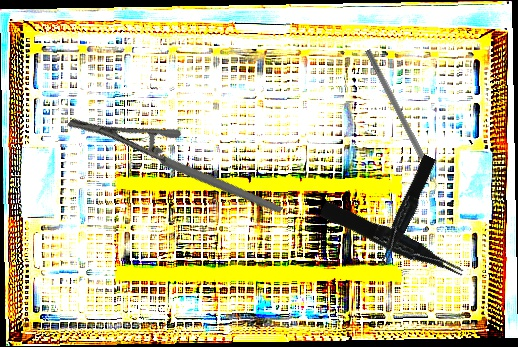Chopper: (356, 48, 444, 199)
Needle Holder: (66, 63, 284, 270)
Tissue Forceps: (318, 194, 467, 289), (371, 154, 441, 267)
